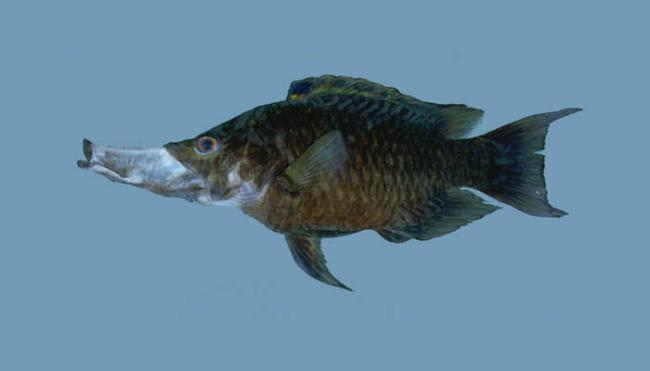fish: (77, 74, 584, 292)
